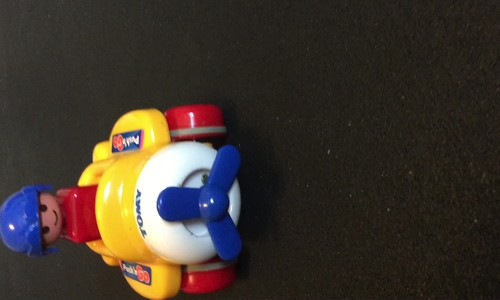toy: (1, 112, 254, 295)
